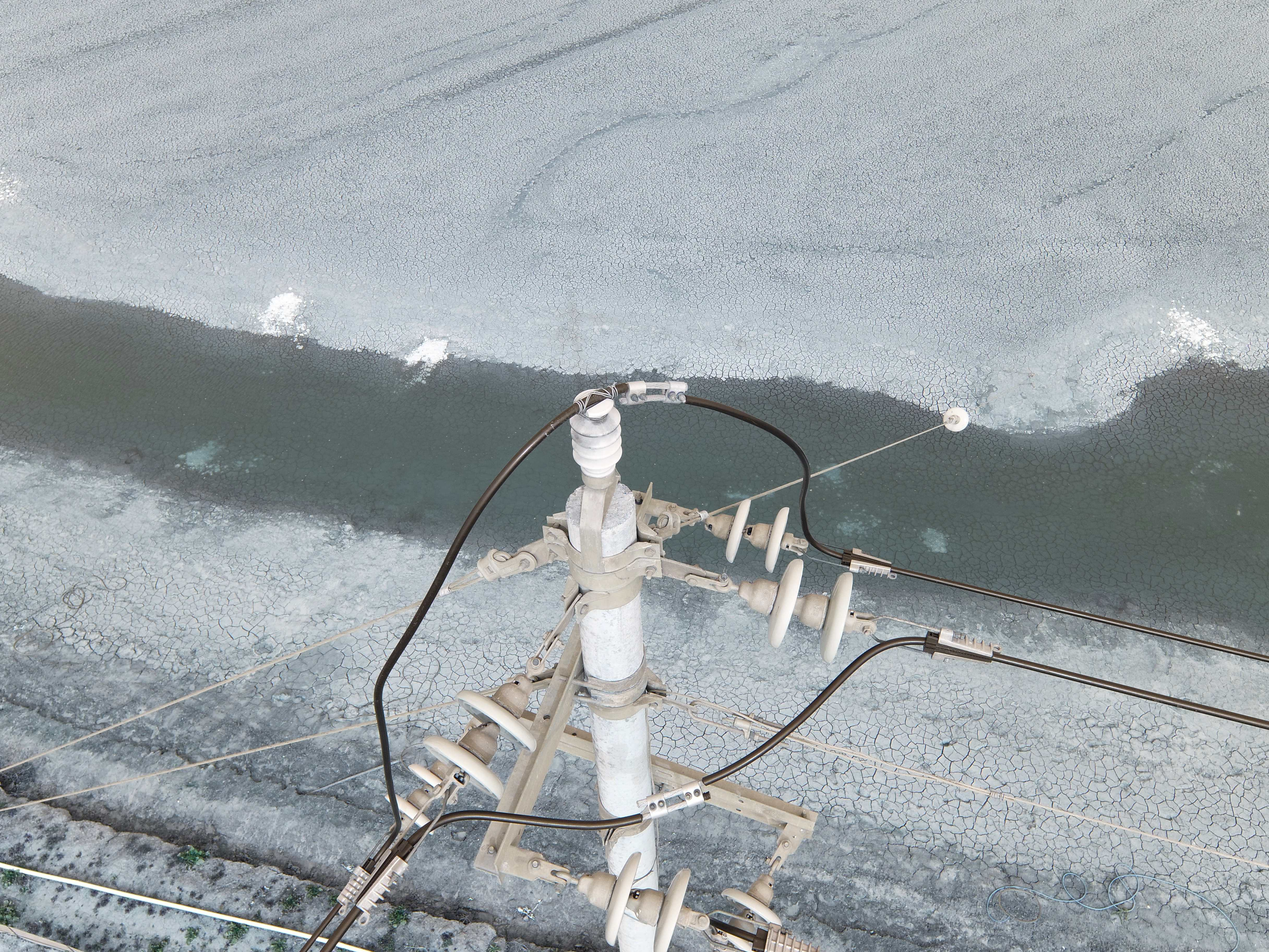severe_soiling_no_discharge_whole: (567, 380, 625, 488)
